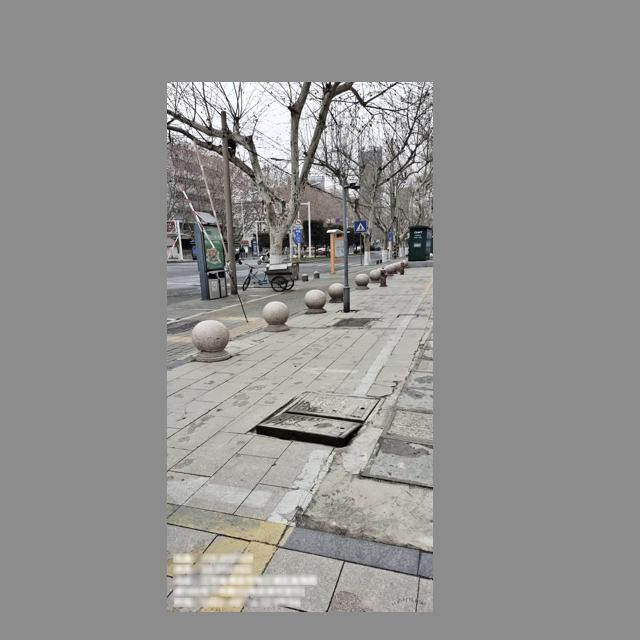uncovered: (248, 369, 366, 453)
